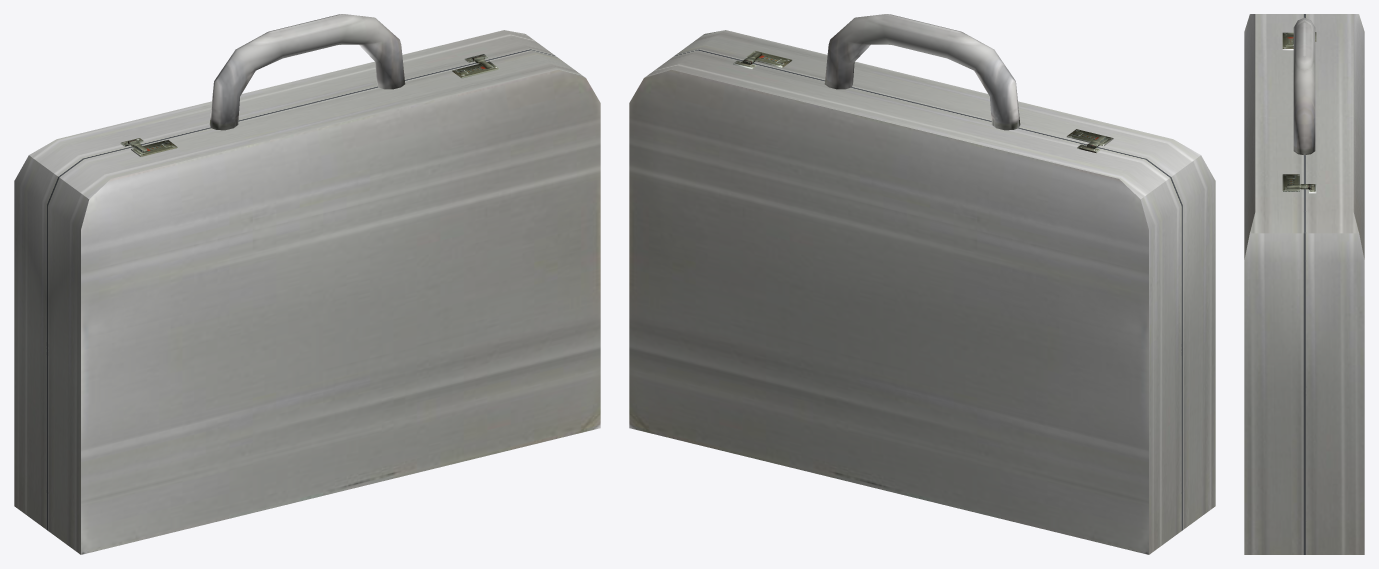
File: Brief Case.fbx
3 renders of one model, left to right at view 1: azimuth 30°, elevation 25°; view 2: azimuth 150°, elevation 25°; view 3: azimuth 270°, elevation 25°, orthographic. The views are drawn at different scales.
Visible parts, largest first — view 1: Brief_Case, Latch; view 2: Brief_Case, Latch; view 3: Brief_Case, Latch.
Boxes of the visible parts, x1=… form: Brief_Case: x1=14, y1=14, x2=600, y2=554; Latch: x1=120, y1=54, x2=499, y2=156; Brief_Case: x1=629, y1=14, x2=1215, y2=554; Latch: x1=733, y1=50, x2=1113, y2=153; Brief_Case: x1=1244, y1=14, x2=1364, y2=554; Latch: x1=1282, y1=32, x2=1316, y2=193.
Size of the model in its own units: 9 by 7.35 by 2.
